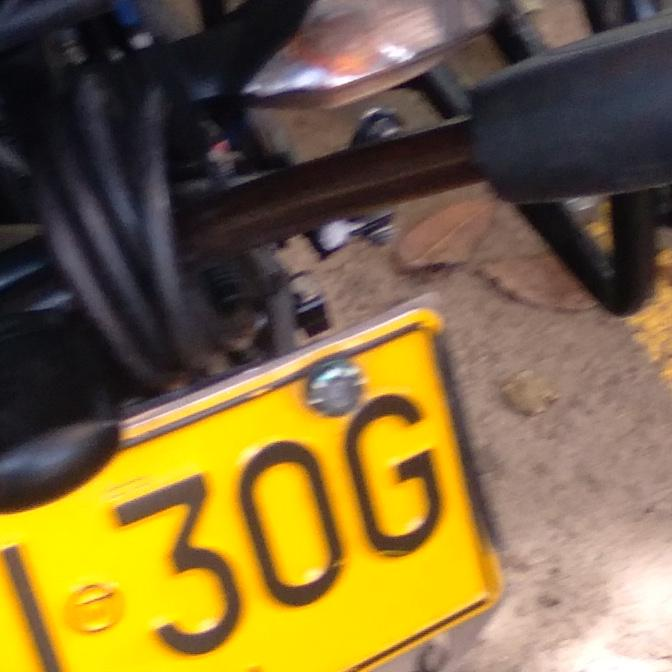plates: (0, 301, 523, 672)
